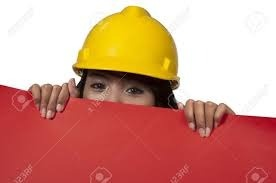helmet: (71, 5, 189, 83)
person with partial safety: (70, 4, 191, 99)
